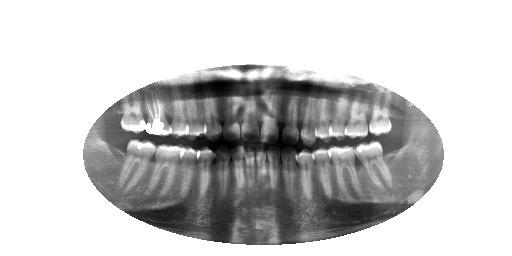Cavity: (256, 90, 280, 145), (239, 89, 261, 144), (280, 95, 302, 145)
Fillings: (145, 142, 187, 199), (118, 138, 156, 195), (355, 141, 396, 191), (329, 144, 361, 198), (363, 85, 393, 135), (117, 90, 148, 135)
Implant: (144, 87, 171, 138)
